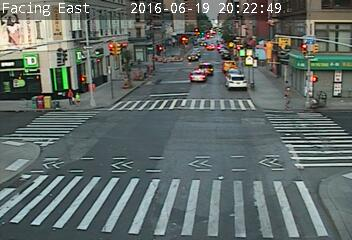neg: (119, 71, 135, 93), (270, 61, 280, 76), (150, 57, 160, 70)
pos: (277, 83, 298, 111), (62, 88, 76, 106), (73, 93, 83, 106)
